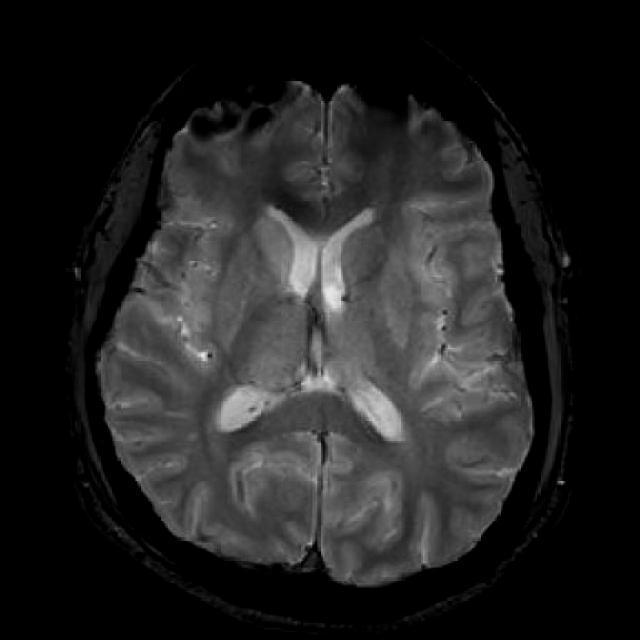EMCI: (212, 450, 272, 490)
LMCI: (170, 187, 242, 390)
MCI: (407, 230, 490, 408)
